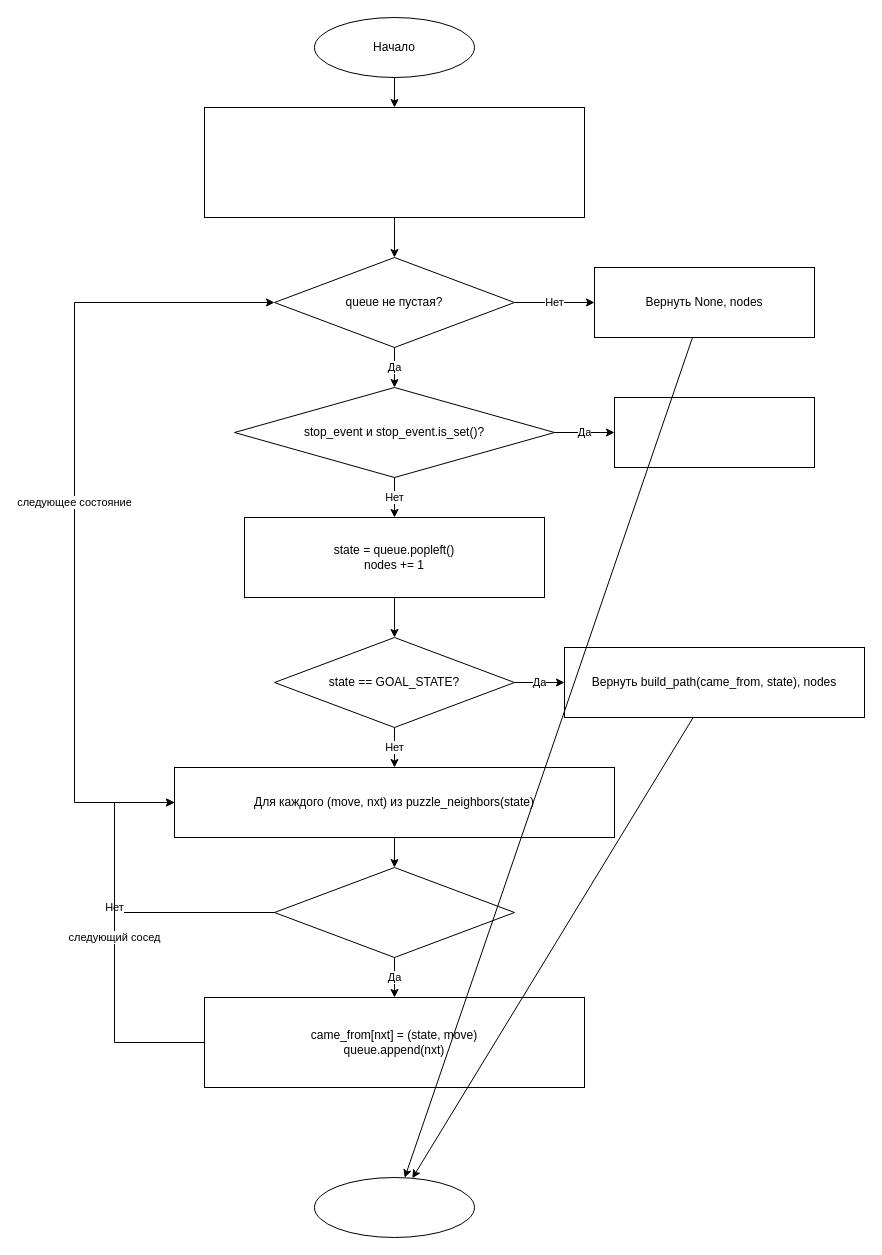
The diagram is 882 pixels wide and 1255 high, and some of its shapes have lost their labels. Each missing label, with the centre of its shape:
"nxt не в came_from?" goes at point 394,912.
"queue = deque([start]) came_from = {start: (None, None)} nodes = 0" goes at point 394,162.
"raise StopSearch()" goes at point 714,432.
"Конец" goes at point 394,1207.
